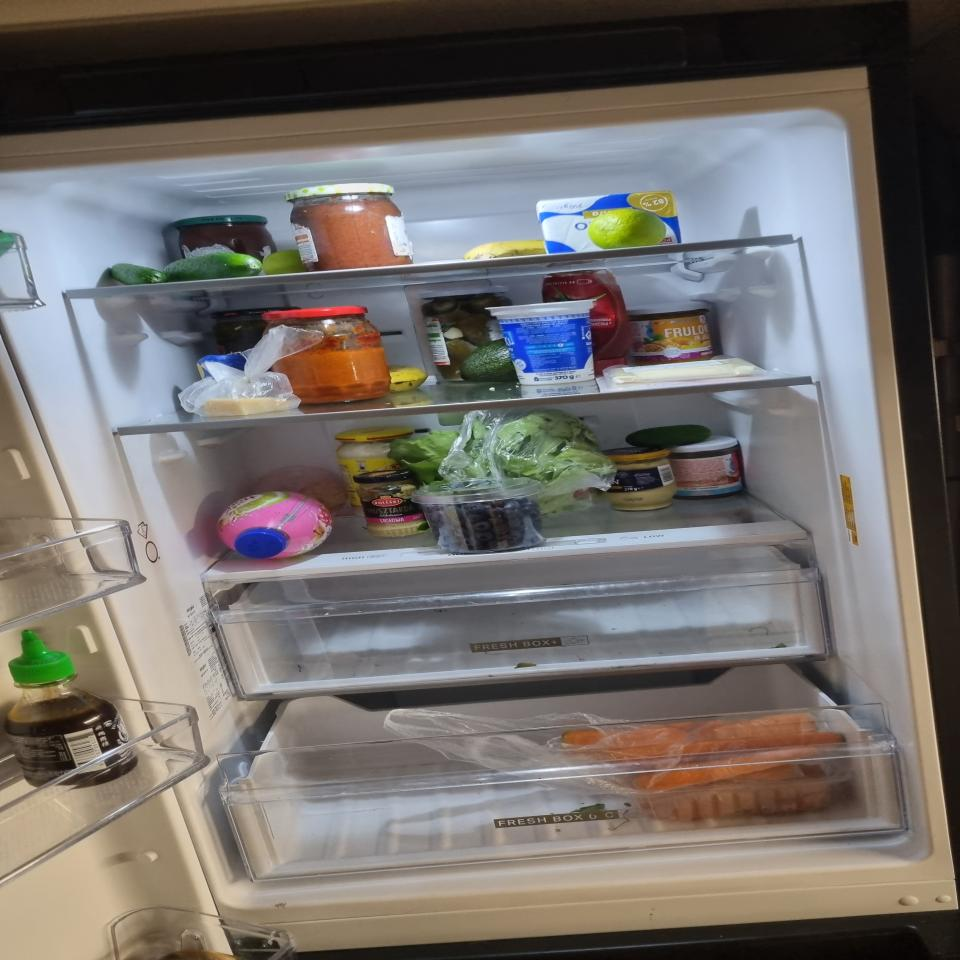Aguacate: (455, 339, 516, 382)
Carne pollo: (634, 764, 832, 821)
Lechuga/Endivia: (387, 407, 615, 517)
Mantequilla: (535, 190, 681, 255)
Pepino: (162, 254, 262, 282), (624, 424, 711, 447), (107, 263, 167, 286)
Plátano: (461, 239, 547, 261), (385, 364, 428, 391)
Queso: (604, 358, 755, 385), (204, 396, 287, 416)
Yogur: (485, 300, 604, 384)
Zanahoria: (561, 713, 845, 791)
